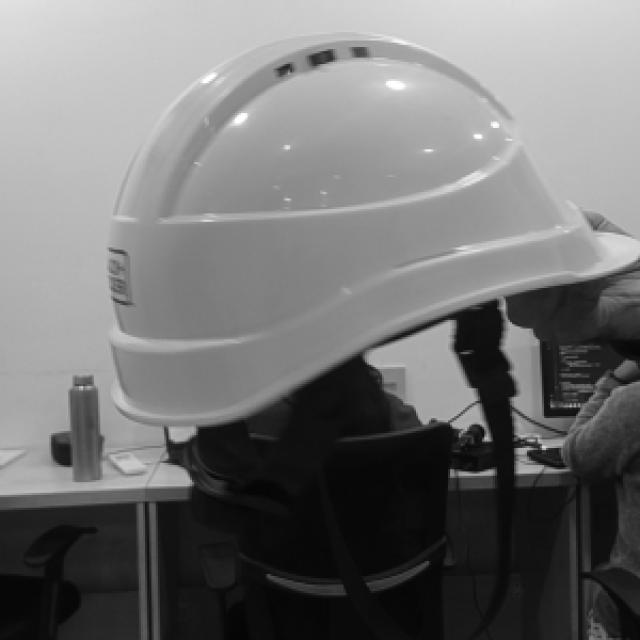safety_helmet: (106, 31, 640, 428)
